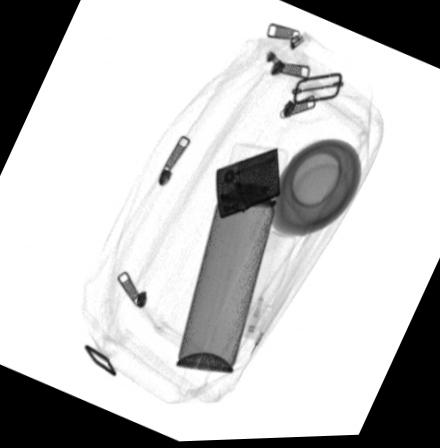Lighter: (216, 150, 280, 220)
Sprayer: (174, 144, 290, 373)
